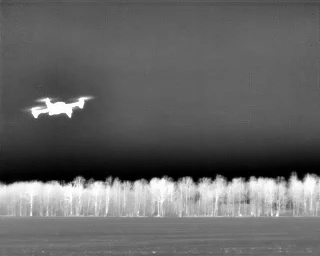DRONE: (20, 90, 98, 127)
